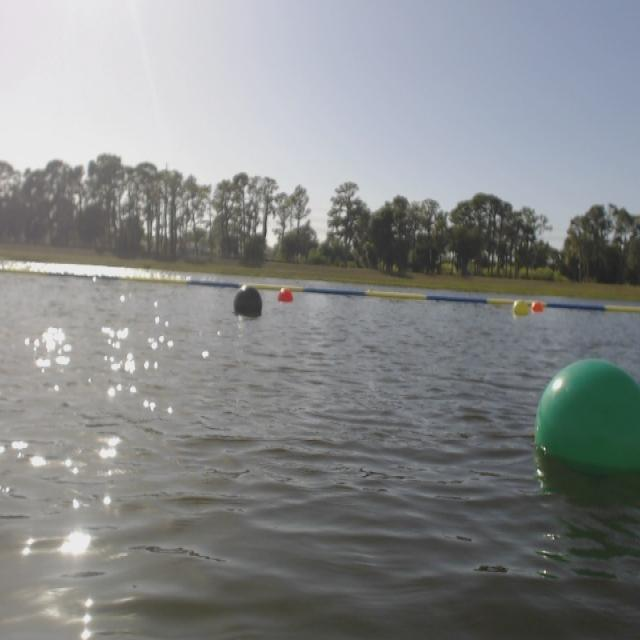Black_Buoy: (232, 279, 267, 334)
Green_Buoy: (543, 360, 640, 476)
Orange__Buoy: (278, 287, 304, 304), (530, 294, 546, 318)
